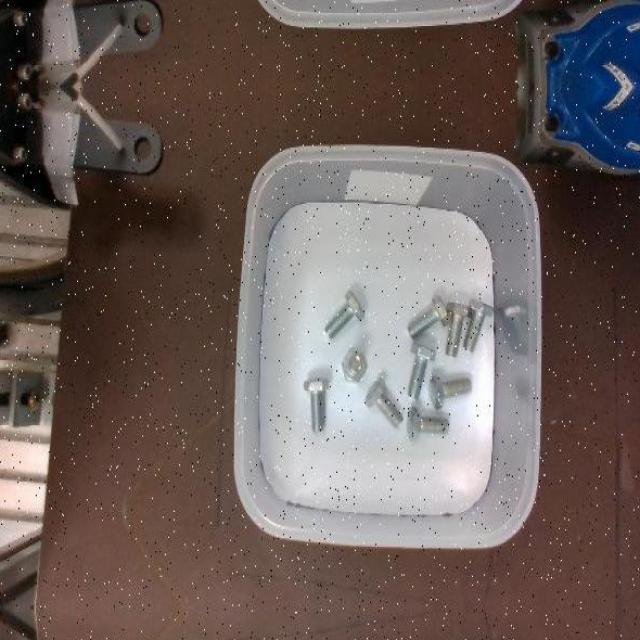screw: (364, 376, 404, 428), (324, 290, 364, 339), (407, 293, 448, 338), (462, 296, 494, 351), (407, 342, 435, 399), (445, 300, 473, 357), (407, 406, 449, 442), (304, 375, 329, 432), (428, 376, 471, 408), (342, 350, 366, 382)
